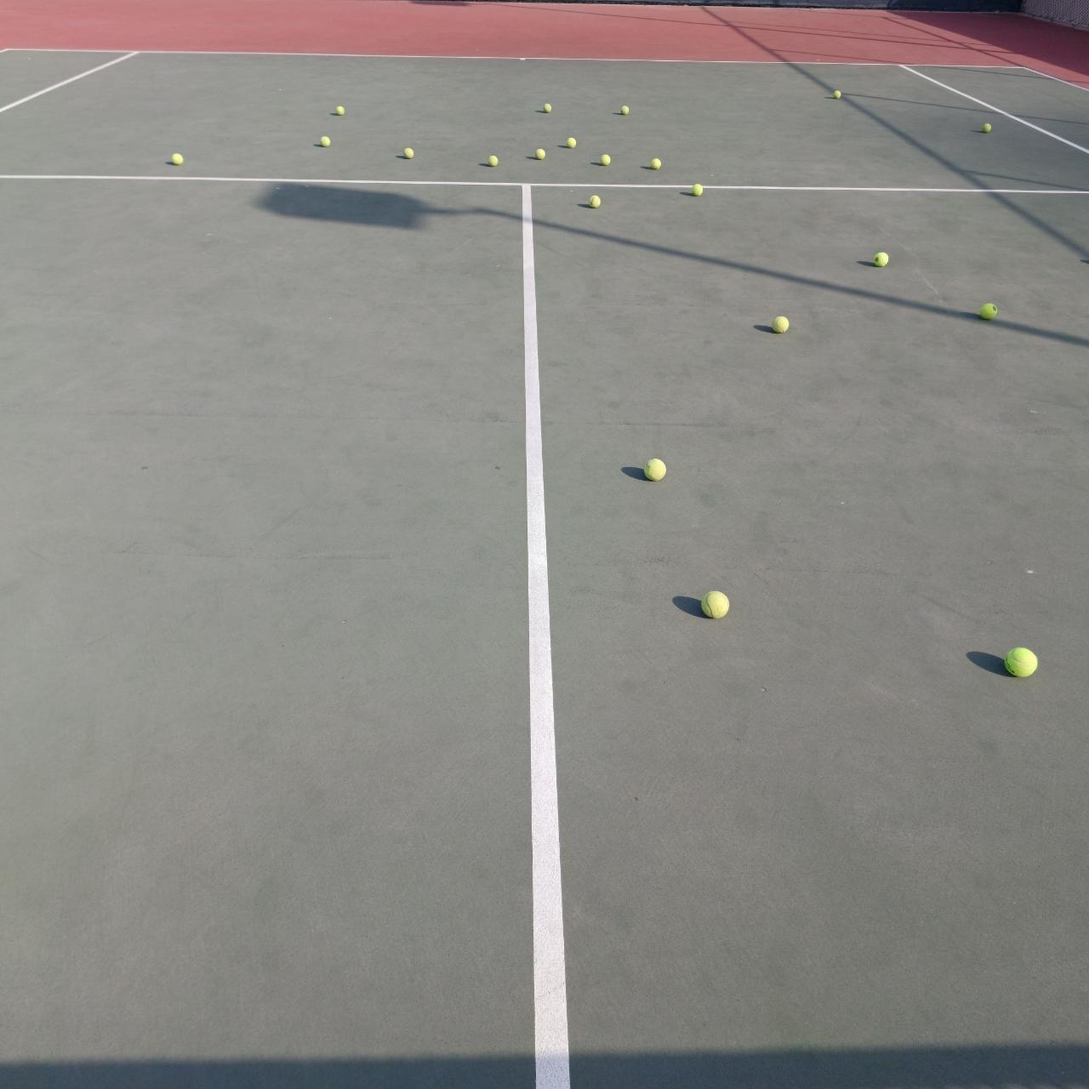tennis-ball: (1003, 644, 1038, 677), (700, 588, 729, 619), (642, 456, 666, 481), (978, 300, 997, 319), (771, 313, 789, 333), (872, 249, 888, 266), (168, 151, 183, 165), (589, 195, 602, 208), (402, 145, 414, 159), (691, 184, 703, 197), (319, 135, 331, 147), (487, 154, 498, 167), (535, 148, 546, 160), (600, 154, 611, 166), (566, 138, 577, 149), (651, 158, 661, 170), (335, 105, 345, 115), (620, 105, 629, 115), (543, 103, 552, 113), (982, 123, 991, 133), (833, 90, 841, 99)
